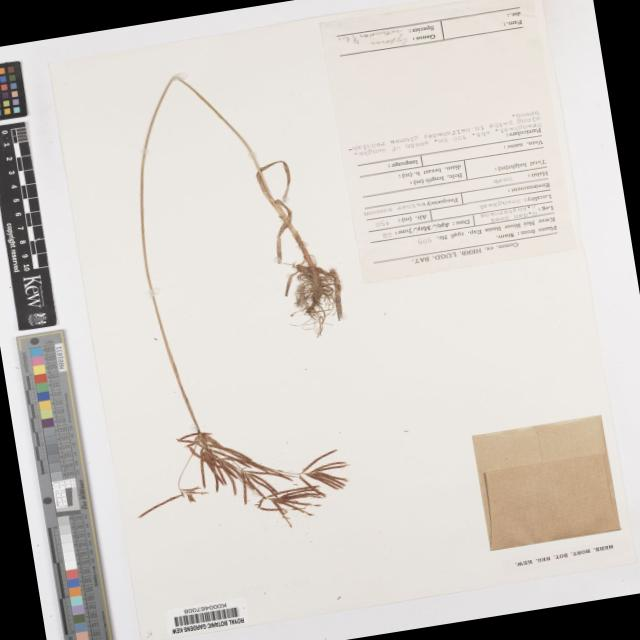cyperus: (124, 396, 368, 556)
